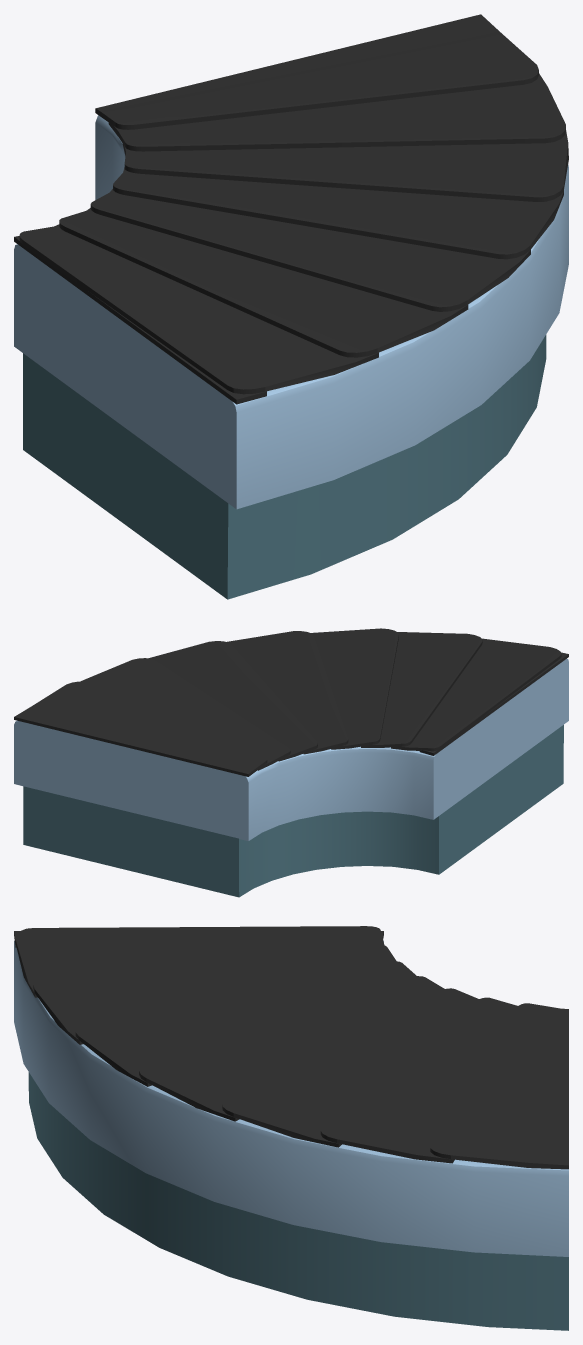
File: 12_5_BaggageClaimBand_AIRPORT_0.obj
The picture shows the model from 3 angles, top to bottom: view 1: azimuth 30°, elevation 25°; view 2: azimuth 150°, elevation 25°; view 3: azimuth 270°, elevation 25°; orthographic projection. The views are drawn at different scales.
Visible parts, largest first — view 1: 12.5.BaggageClaimBand_AIRPORT_0; view 2: 12.5.BaggageClaimBand_AIRPORT_0; view 3: 12.5.BaggageClaimBand_AIRPORT_0.
Part boxes in pixels (bbox=[...]): 12.5.BaggageClaimBand_AIRPORT_0: bbox=[14, 14, 568, 599]; 12.5.BaggageClaimBand_AIRPORT_0: bbox=[14, 628, 568, 897]; 12.5.BaggageClaimBand_AIRPORT_0: bbox=[14, 926, 568, 1330].
Bounding box in the file's own units: 2.63 × 0.9172 × 2.62.
1 material, 1 textured.
